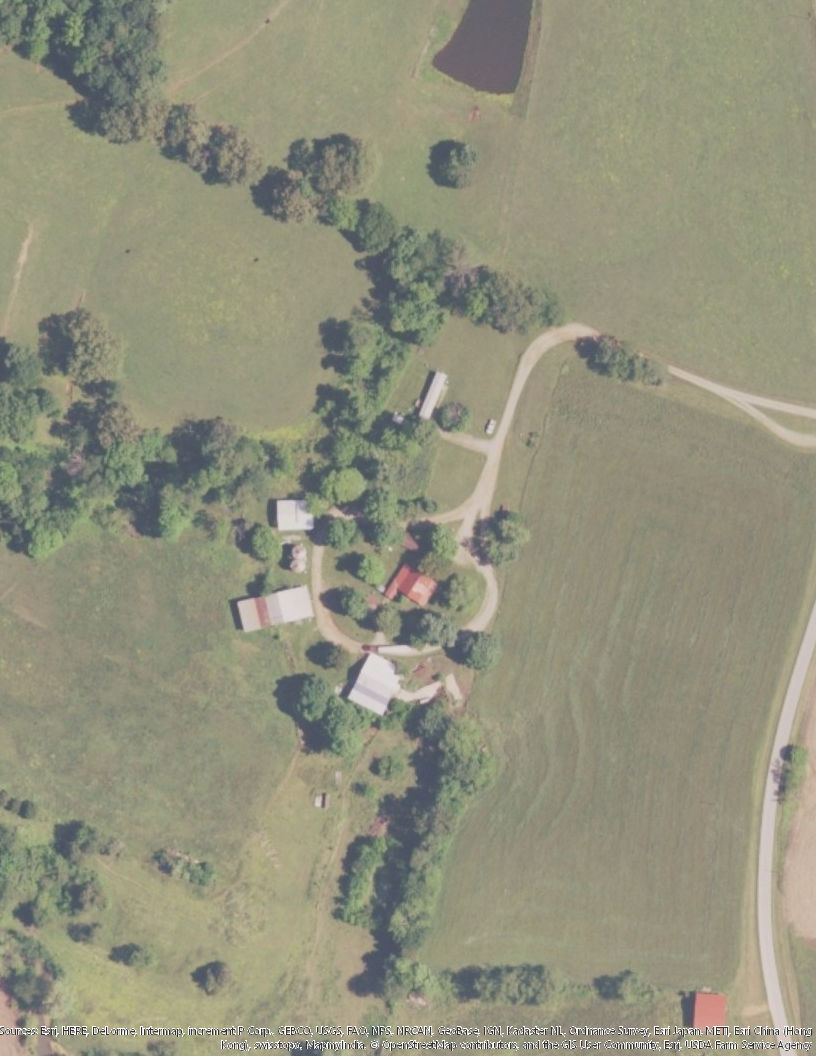cafo: (233, 581, 315, 637), (414, 360, 453, 427)
